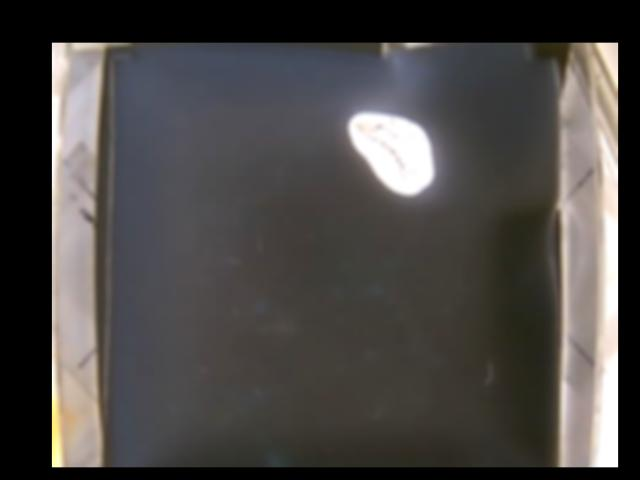Pebble: (348, 110, 436, 198)
